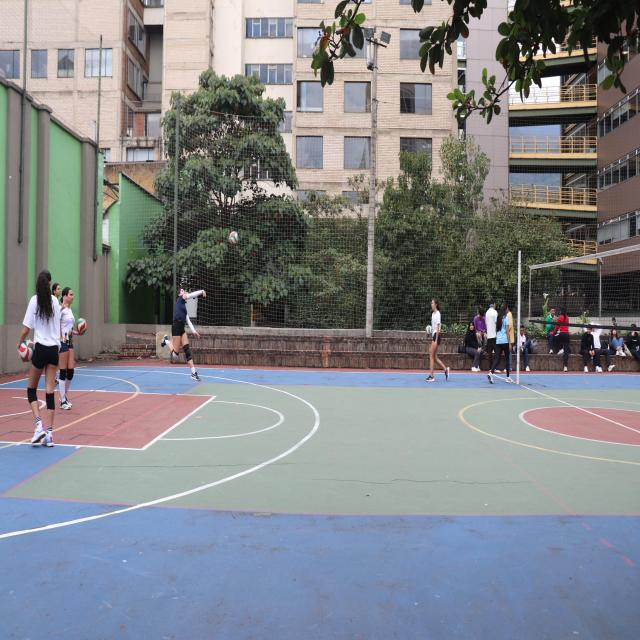volleyball: (20, 339, 34, 362), (76, 318, 88, 333), (229, 232, 239, 246), (426, 325, 432, 336)
